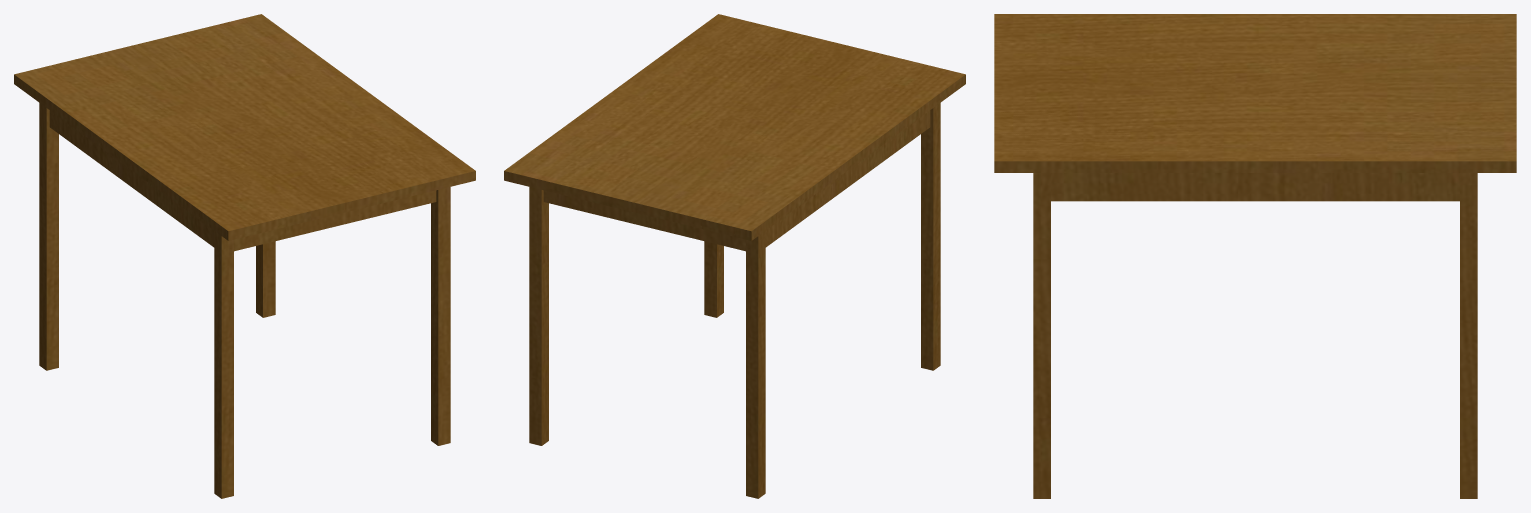
File: table.dae
3 views of the same model, side by side, from view 1: azimuth 30°, elevation 25°; view 2: azimuth 150°, elevation 25°; view 3: azimuth 270°, elevation 25° (orthographic). The views are drawn at different scales.
Parts seen in each view (by area): view 1: Group1; view 2: Group1; view 3: Group1.
Part boxes in pixels (<box>): Group1: <box>14,14,475,498</box>; Group1: <box>504,14,965,498</box>; Group1: <box>994,14,1516,498</box>.
Bounding box in the file's own units: 20 × 30 × 21.75.
Materials: 1 (1 with a texture image).
